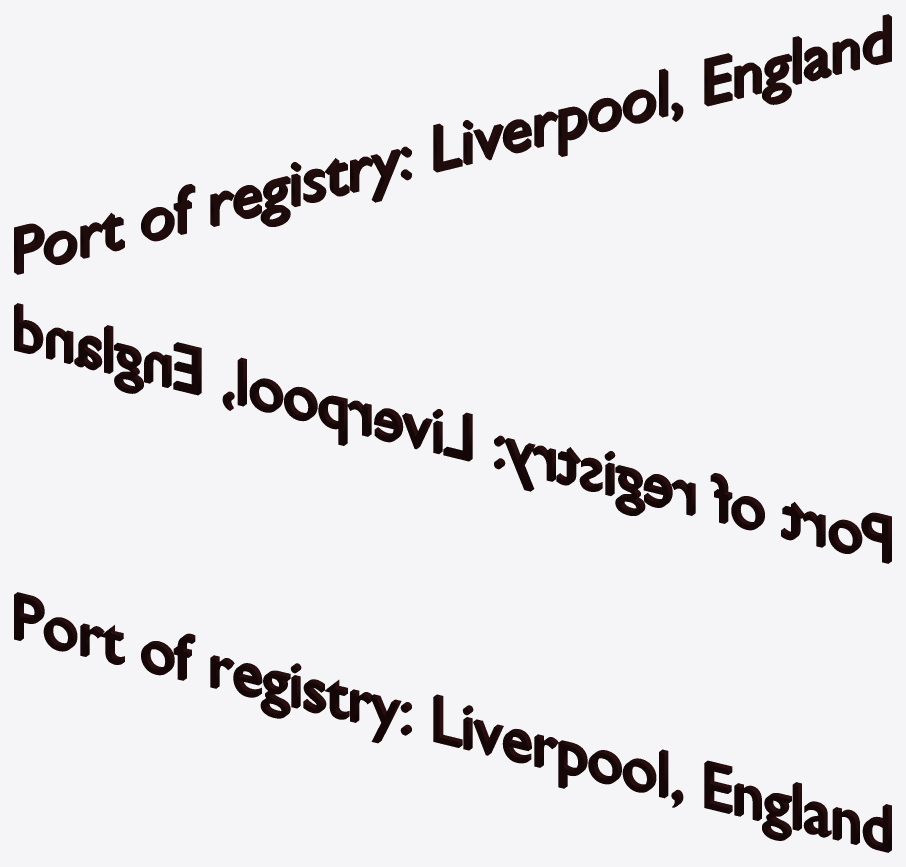
The model's file is text_historical01.glb.
The picture shows the model from 3 angles, top to bottom: view 1: azimuth 30°, elevation 25°; view 2: azimuth 150°, elevation 25°; view 3: azimuth 330°, elevation 25°; orthographic projection.
Visible parts, largest first — view 1: historical01; view 2: historical01; view 3: historical01.
Part boxes in pixels (<box>): historical01: <box>14,14,891,274</box>; historical01: <box>14,303,891,563</box>; historical01: <box>14,592,891,852</box>.
Size of the model in its own units: 241 by 15.91 by 1.79.
